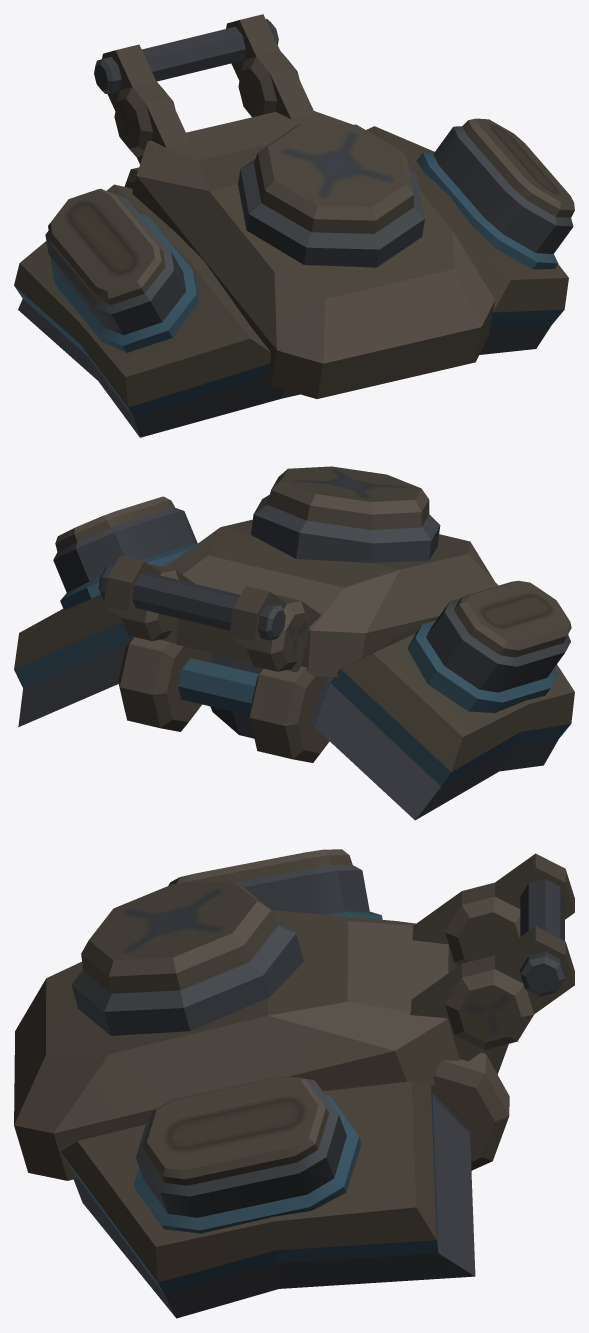
Rendered from mech_SM_Mech_Hand_01_Armor_Wrist_03.gltf.
3 renders of one model, top to bottom at view 1: azimuth 30°, elevation 25°; view 2: azimuth 150°, elevation 25°; view 3: azimuth 270°, elevation 25°, orthographic. The views are drawn at different scales.
Parts seen in each view (by area): view 1: SM_Mech_Hand_01_Armor_Wrist_03; view 2: SM_Mech_Hand_01_Armor_Wrist_03; view 3: SM_Mech_Hand_01_Armor_Wrist_03.
Part boxes in pixels (<box>): SM_Mech_Hand_01_Armor_Wrist_03: <box>14,14,574,437</box>; SM_Mech_Hand_01_Armor_Wrist_03: <box>14,466,574,820</box>; SM_Mech_Hand_01_Armor_Wrist_03: <box>14,849,574,1318</box>.
Size of the model in its own units: 0.6118 by 0.3195 by 0.5303.
Materials: 1 (1 with a texture image).
